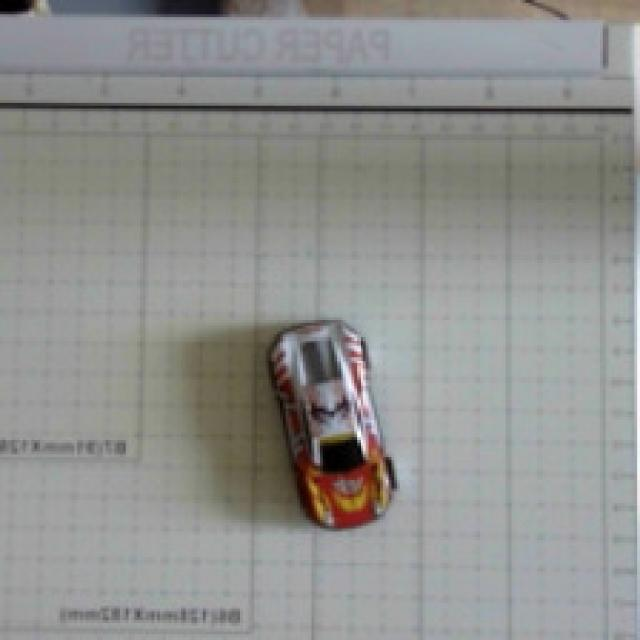Red Car: (250, 283, 433, 545)
